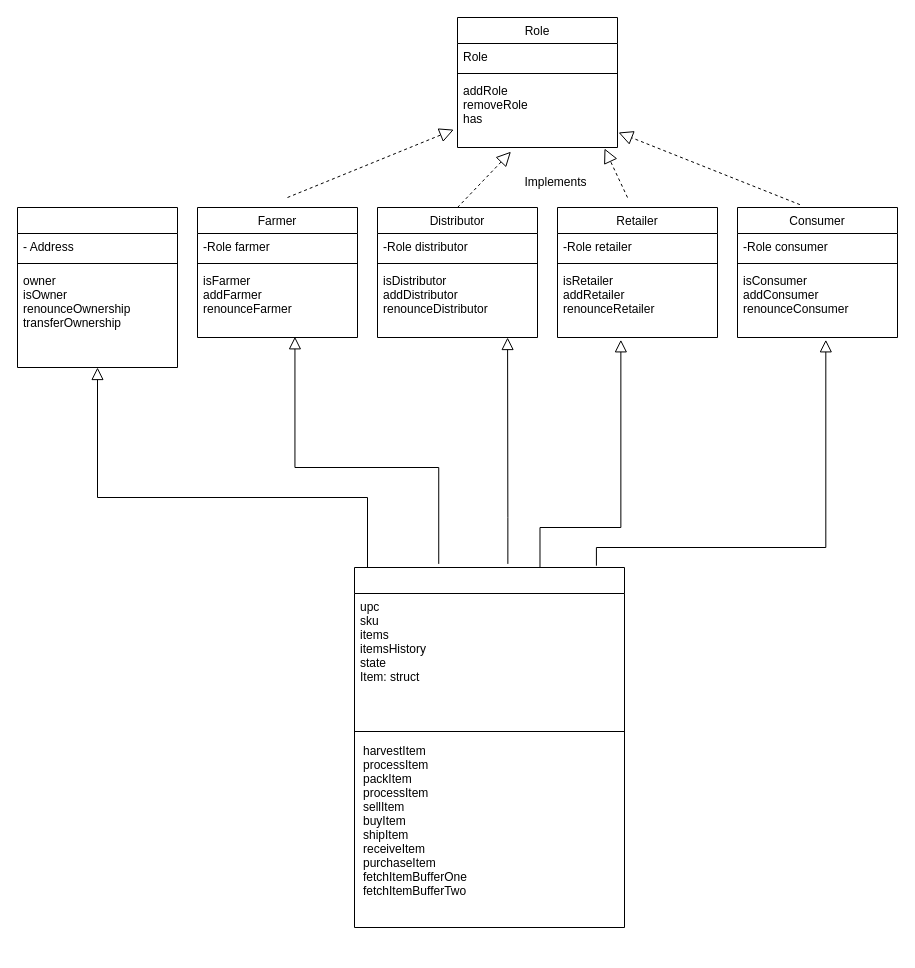
Image size: 915x968. Some labels were removed from this diagram. Here are the shapes that lost their labels. From the top down, the box of each, then its label:
(16, 206, 178, 368): Ownable
(354, 566, 624, 928): SupplyChain
